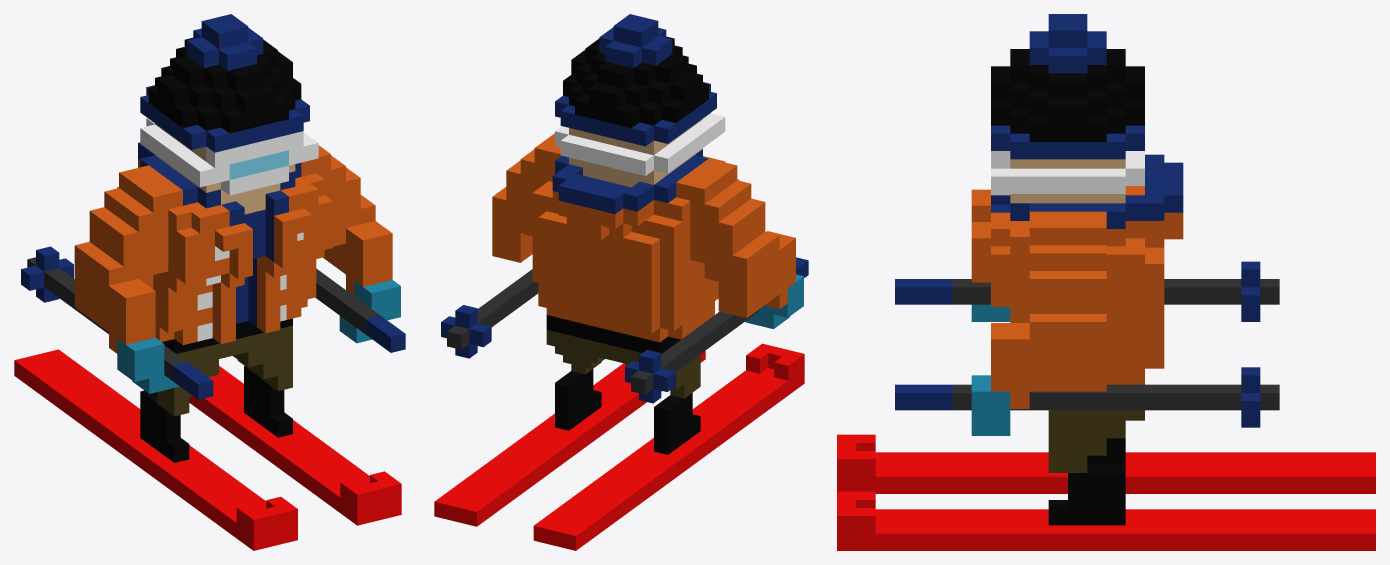
Rendered from Saut_2_Frame_10.obj.
3 views of the same model, side by side, from view 1: azimuth 30°, elevation 25°; view 2: azimuth 150°, elevation 25°; view 3: azimuth 270°, elevation 25° (orthographic). The views are drawn at different scales.
Bounding box in the file's own units: 18 × 28 × 28.
1 material, 1 textured.
